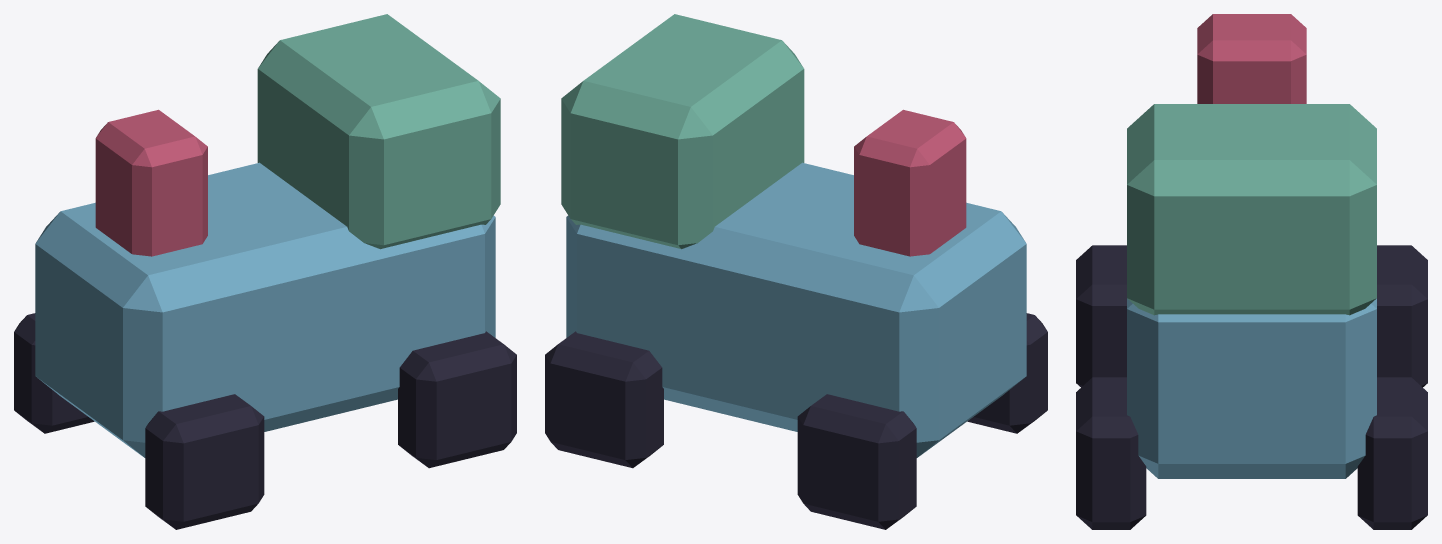
Rendered from train.glb.
3 views of the same model, side by side, from view 1: azimuth 30°, elevation 25°; view 2: azimuth 150°, elevation 25°; view 3: azimuth 270°, elevation 25° (orthographic). The views are drawn at different scales.
Parts seen in each view (by area): view 1: Toy; view 2: Toy; view 3: Toy.
Part boxes in pixels (left/top/right/bottom): Toy: left=14, top=14, right=516, bottom=529; Toy: left=545, top=14, right=1047, bottom=529; Toy: left=1076, top=14, right=1427, bottom=529.
Size of the model in its own units: 0.595 by 0.525 by 0.45.
